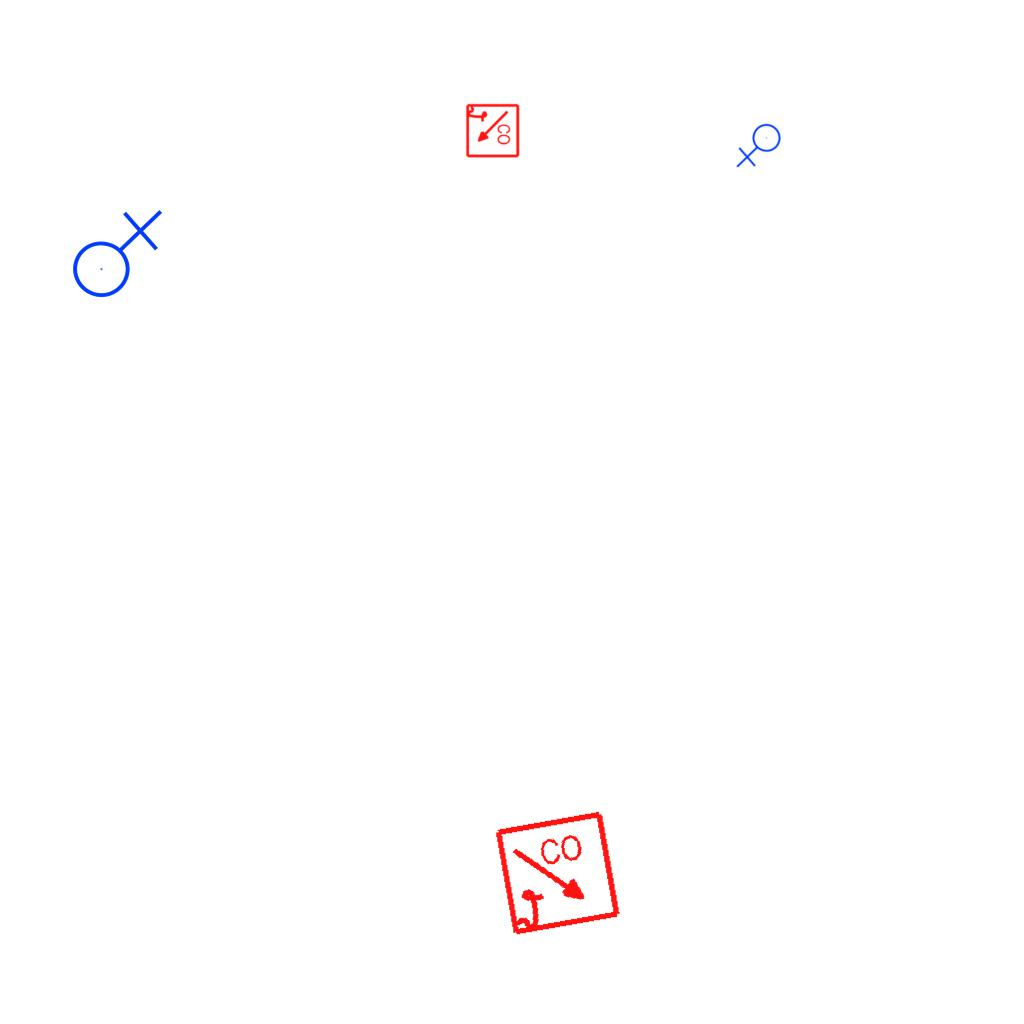Elektroanschluss_allgemein_230V_Geraeteanschlussdose_230V: (64, 205, 163, 299), (736, 123, 785, 170)
ROA_Rauchmelder_optisch_mit_Signalgeber_(Sockelsirene): (493, 809, 624, 940), (464, 103, 520, 159)
